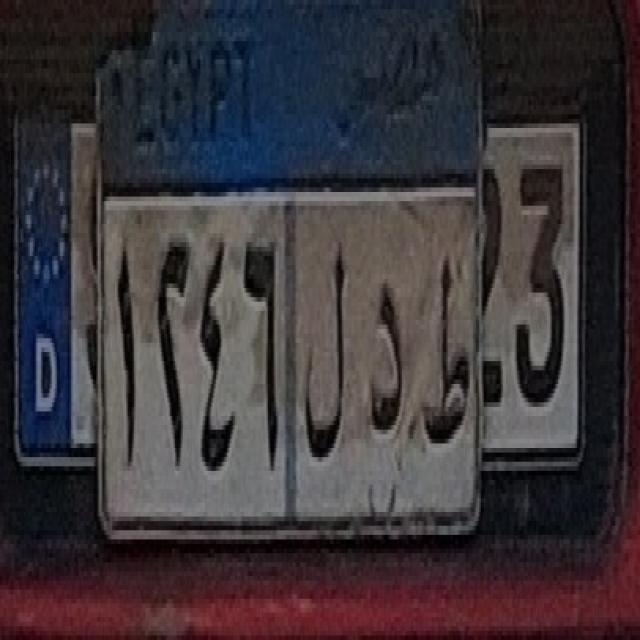1: (108, 229, 145, 496)
2: (149, 227, 198, 480)
4: (192, 232, 244, 480)
6: (236, 224, 292, 476)
Laam: (290, 250, 360, 466)
Taa: (409, 257, 482, 463)
daal: (355, 272, 418, 448)
